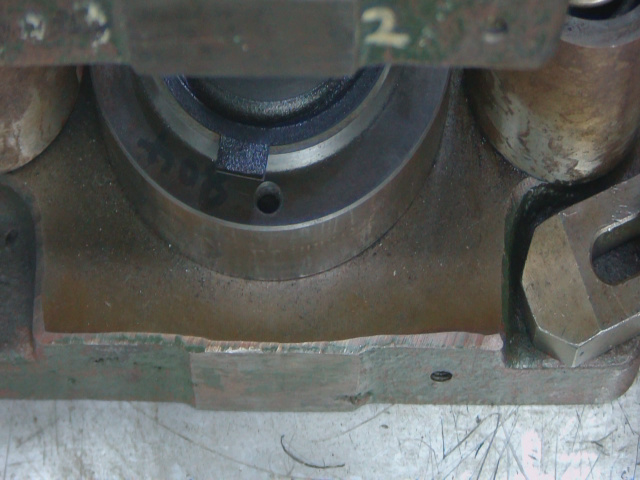HX1: (215, 136, 279, 189)
